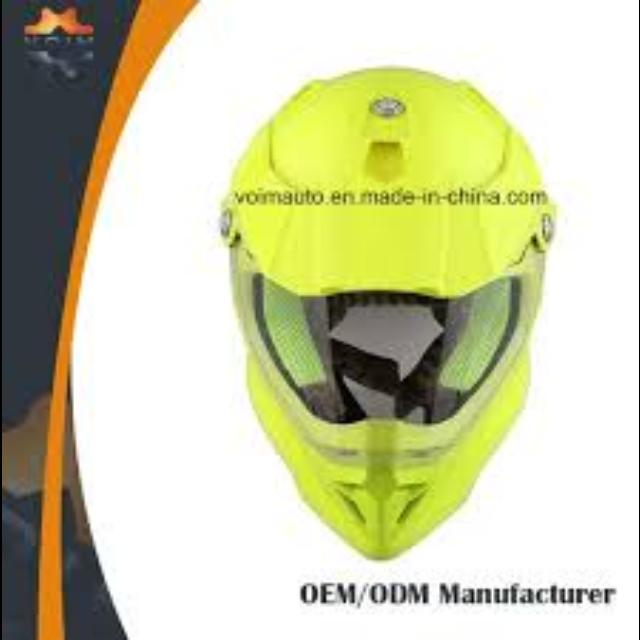motorcycle-helmets: (220, 68, 550, 555)
